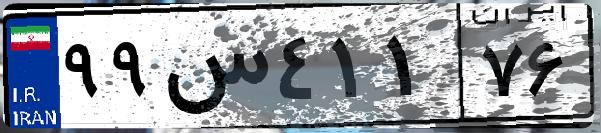1: (385, 28, 445, 110), (330, 28, 385, 110)
4: (270, 28, 330, 110)
6: (525, 38, 570, 115)
7: (475, 38, 525, 113)
9: (57, 26, 110, 100), (110, 28, 158, 98)
س: (158, 20, 270, 120)
